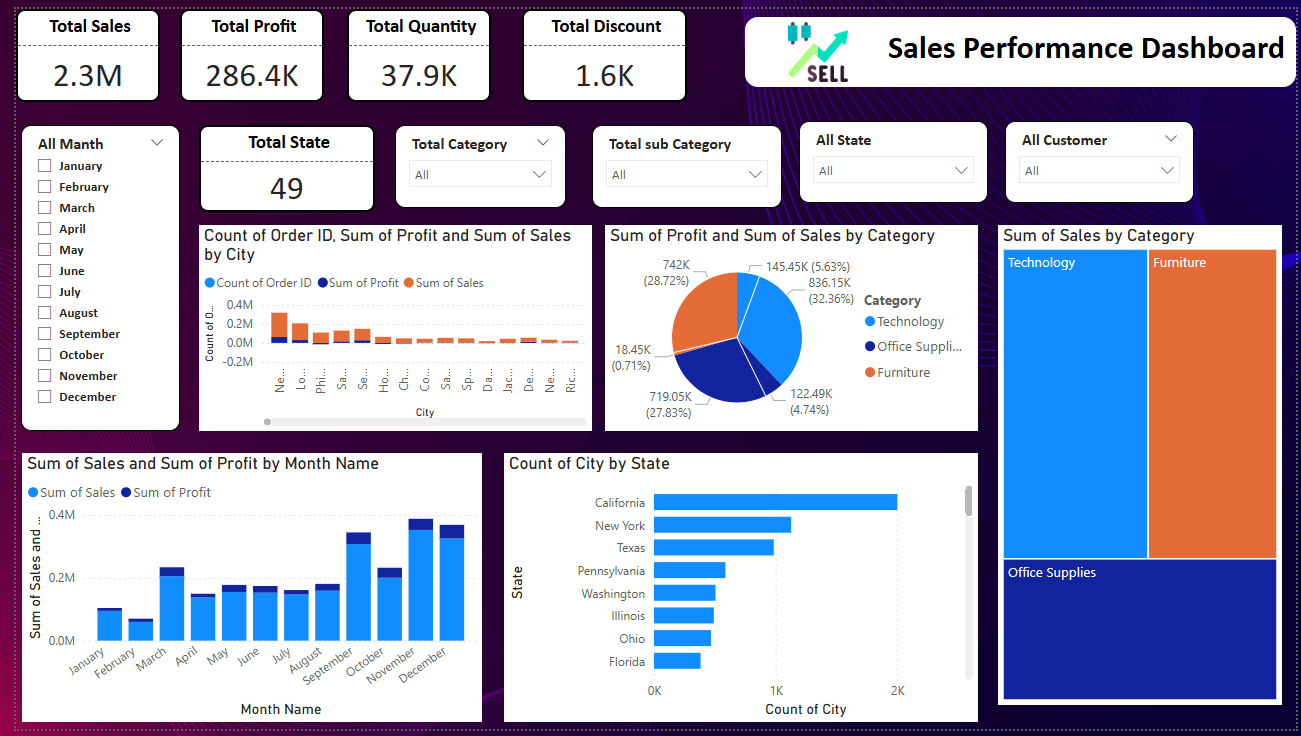

The page's visual inventory and layout, read from the dashboard file:
{"tool":"powerbi","page":{"name":"Page 1","canvas":[1280,720],"ordinal":0},"visuals":[{"type":"card","title":"Total Sales","fields":{"Values":["Sum(Sample - Superstore.Sales)"]},"box":[0,0,144,93],"z":0},{"type":"textbox","box":[729.2,7.5,550.8,70],"z":1000},{"type":"slicer","fields":{"Values":["Sample - Superstore.Month Name"]},"box":[5,116,159,306],"z":2000},{"type":"image","box":[739,8,126,70],"z":3000},{"type":"card","title":"Total Discount","fields":{"Values":["Sum(Sample - Superstore.Discount)"]},"box":[506,0,165,93],"z":4000},{"type":"card","title":"Total Quantity","fields":{"Values":["Sum(Sample - Superstore.Quantity)"]},"box":[331,0,144,93],"z":5000},{"type":"slicer","fields":{"Values":["Sample - Superstore.Category"]},"box":[379,116,171,83],"z":6000},{"type":"slicer","fields":{"Values":["Sample - Superstore.Sub-Category"]},"box":[576,116,190,83],"z":7000},{"type":"card","title":"Total Profit","fields":{"Values":["Sum(Sample - Superstore.Profit)"]},"box":[164,0,144,93],"z":8000},{"type":"columnChart","fields":{"Category":["Sample - Superstore.Month Name"],"Y":["Sum(Sample - Superstore.Sales)","Sum(Sample - Superstore.Profit)"]},"box":[6,444,460,269],"z":9000},{"type":"pieChart","fields":{"Category":["Sample - Superstore.Category"],"Y":["Sum(Sample - Superstore.Profit)","Sum(Sample - Superstore.Sales)"]},"box":[589,216,373,206],"z":10000},{"type":"lineStackedColumnComboChart","fields":{"Category":["Sample - Superstore.City"],"Y":["CountNonNull(Sample - Superstore.Order ID)","Sum(Sample - Superstore.Profit)","Sum(Sample - Superstore.Sales)"]},"box":[183,216,393,206],"z":11000},{"type":"card","title":"Total State","fields":{"Values":["Count(Sample - Superstore.State)"]},"box":[183,116,176,87],"z":12000},{"type":"slicer","fields":{"Values":["Sample - Superstore.State"]},"box":[783,112,189,82],"z":13000},{"type":"treemap","fields":{"Group":["Sample - Superstore.Category"],"Values":["Sum(Sample - Superstore.Sales)"]},"box":[982,216,284,480],"z":13001},{"type":"slicer","fields":{"Values":["Sample - Superstore.Customer Name"]},"box":[989,112,189,82],"z":13002},{"type":"clusteredBarChart","fields":{"Y":["CountNonNull(Sample - Superstore.City)"],"Category":["Sample - Superstore.State"]},"box":[488,444,474,269],"z":13003}]}

Visuals, with their boxes in screenshot pixels (x1, y1, x2, y2), scaled from the page's 1280x720 canvas onto the 1301x736 screenshot:
"Total Sales" card: [x1=0, y1=0, x2=146, y2=95]
textbox: [x1=741, y1=8, x2=1300, y2=79]
slicer - Sample - Superstore.Month Name: [x1=5, y1=119, x2=167, y2=431]
image: [x1=751, y1=8, x2=879, y2=80]
"Total Discount" card: [x1=514, y1=0, x2=682, y2=95]
"Total Quantity" card: [x1=336, y1=0, x2=483, y2=95]
slicer - Sample - Superstore.Category: [x1=385, y1=119, x2=559, y2=203]
slicer - Sample - Superstore.Sub-Category: [x1=585, y1=119, x2=779, y2=203]
"Total Profit" card: [x1=167, y1=0, x2=313, y2=95]
columnChart - Sample - Superstore.Month Name x Sum(Sample - Superstore.Sales): [x1=6, y1=454, x2=474, y2=729]
pieChart - Sample - Superstore.Category x Sum(Sample - Superstore.Profit): [x1=599, y1=221, x2=978, y2=431]
lineStackedColumnComboChart - Sample - Superstore.City x CountNonNull(Sample - Superstore.Order ID): [x1=186, y1=221, x2=585, y2=431]
"Total State" card: [x1=186, y1=119, x2=365, y2=208]
slicer - Sample - Superstore.State: [x1=796, y1=114, x2=988, y2=198]
treemap - Sample - Superstore.Category x Sum(Sample - Superstore.Sales): [x1=998, y1=221, x2=1287, y2=711]
slicer - Sample - Superstore.Customer Name: [x1=1005, y1=114, x2=1197, y2=198]
clusteredBarChart - CountNonNull(Sample - Superstore.City) x Sample - Superstore.State: [x1=496, y1=454, x2=978, y2=729]
